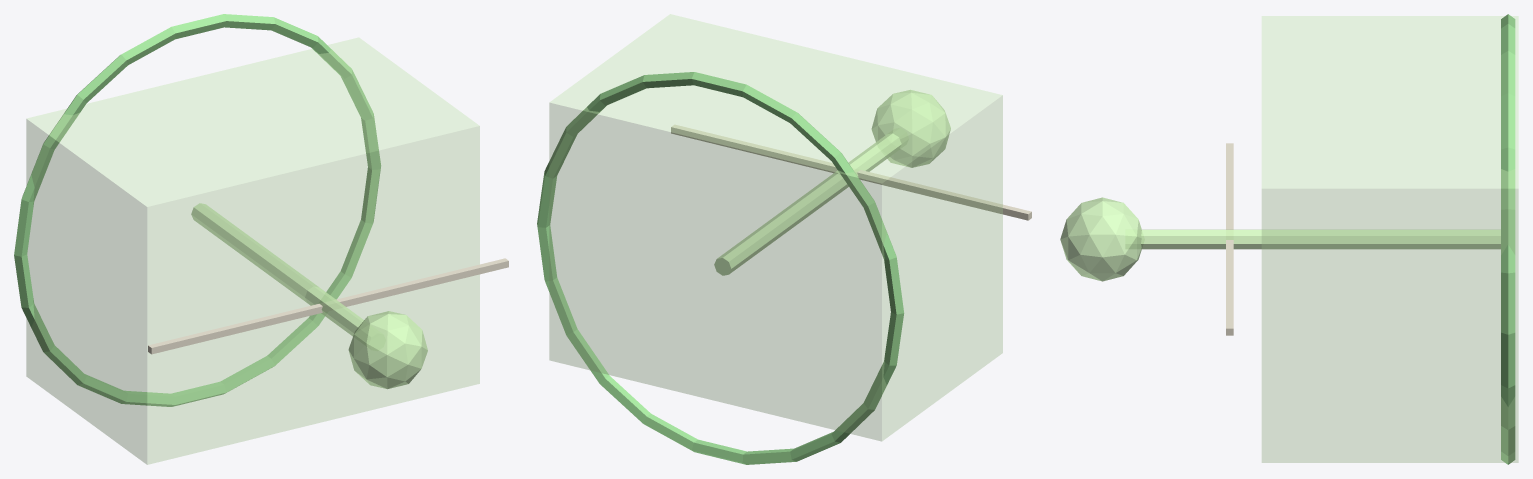
File: 05_dynamic_camera_trigger.glb
3 views of the same model, side by side, from view 1: azimuth 30°, elevation 25°; view 2: azimuth 150°, elevation 25°; view 3: azimuth 270°, elevation 25° (orthographic). The views are drawn at different scales.
Visible parts, largest first — view 1: camera_trigger_volume, combat_start_ring, focus_target, focus_target_pole, camera_axis; view 2: camera_trigger_volume, combat_start_ring, focus_target, focus_target_pole, camera_axis; view 3: camera_trigger_volume, focus_target_pole, combat_start_ring, focus_target, camera_axis.
Part boxes in pixels (x1,y1,x2,y2): camera_trigger_volume: (26, 37, 479, 464); combat_start_ring: (14, 14, 380, 406); focus_target: (348, 311, 427, 389); focus_target_pole: (191, 203, 364, 336); camera_axis: (148, 258, 508, 354); camera_trigger_volume: (549, 14, 1002, 441); combat_start_ring: (537, 72, 904, 464); focus_target: (871, 90, 950, 167); focus_target_pole: (714, 133, 901, 275); camera_axis: (671, 124, 1031, 220); camera_trigger_volume: (1262, 16, 1518, 462); focus_target_pole: (1141, 229, 1500, 249); combat_start_ring: (1501, 14, 1515, 464); focus_target: (1060, 197, 1141, 281); camera_axis: (1226, 143, 1233, 335).
Bounding box in the file's own units: 1.49 × 1.47 × 1.51.
